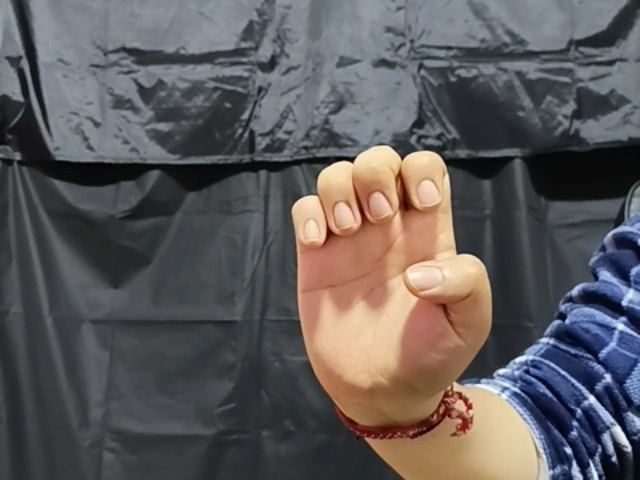E: (292, 140, 495, 417)
